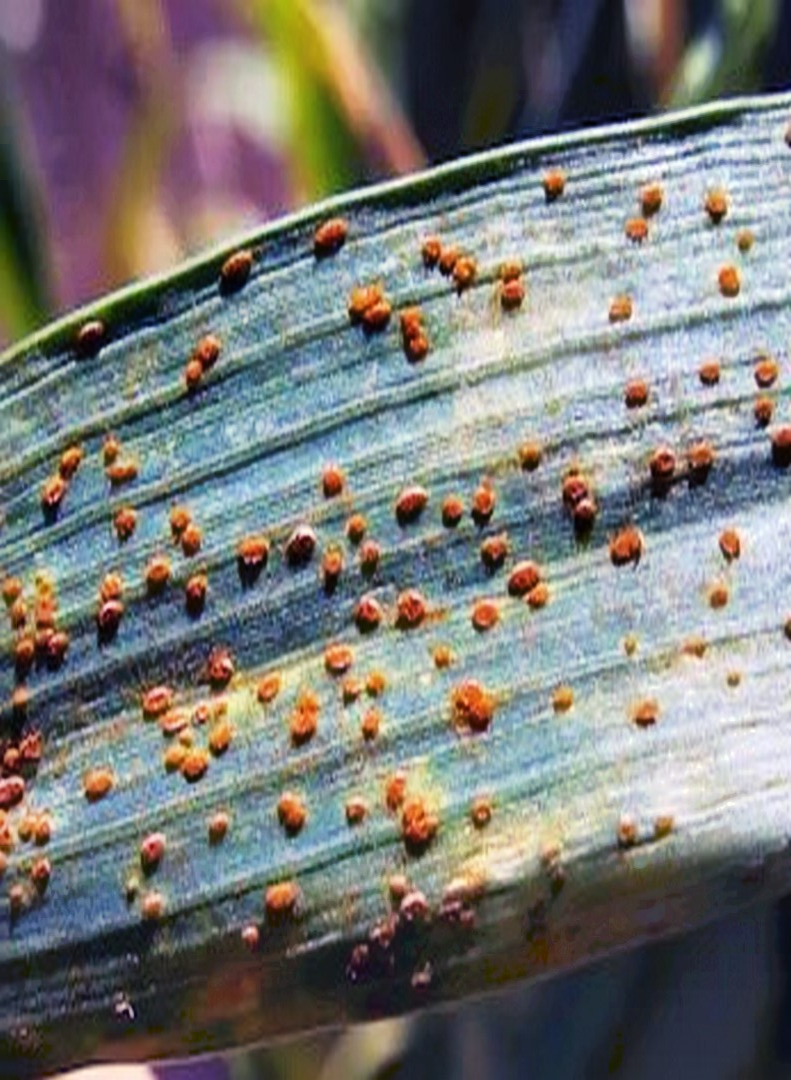Leaf Rust: (7, 216, 737, 971)
